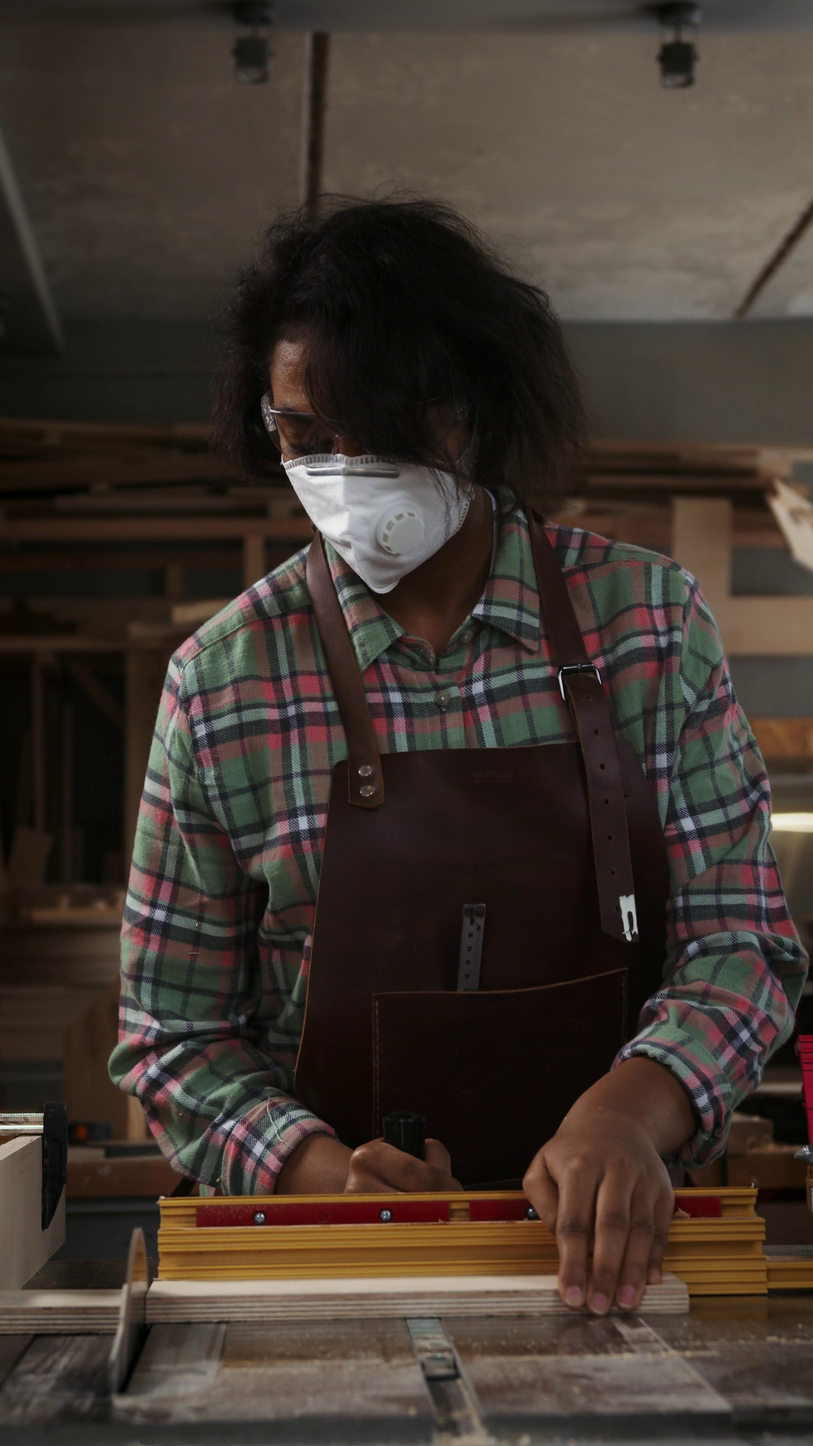mask: (280, 451, 475, 595)
person: (106, 189, 811, 1318)
